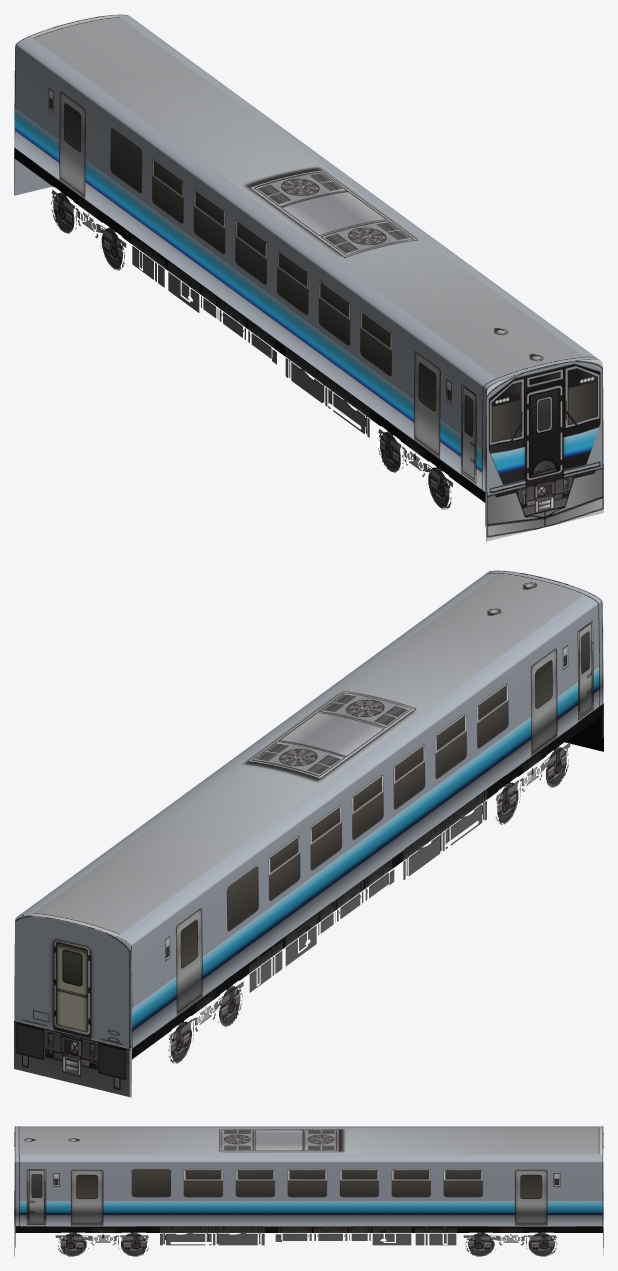
The model's file is car1.glb.
The picture shows the model from 3 angles, top to bottom: view 1: azimuth 30°, elevation 25°; view 2: azimuth 150°, elevation 25°; view 3: azimuth 270°, elevation 25°; orthographic projection. The views are drawn at different scales.
Parts seen in each view (by area): view 1: jr-east-gve400-car1; view 2: jr-east-gve400-car1; view 3: jr-east-gve400-car1.
Boxes of the visible parts, bbox=[...] form: jr-east-gve400-car1: bbox=[14, 14, 603, 541]; jr-east-gve400-car1: bbox=[14, 570, 603, 1097]; jr-east-gve400-car1: bbox=[14, 1126, 603, 1256].
Bounding box in the file's own units: 2.8 × 3.64 × 19.53.
Materials: 9 (8 with a texture image).
